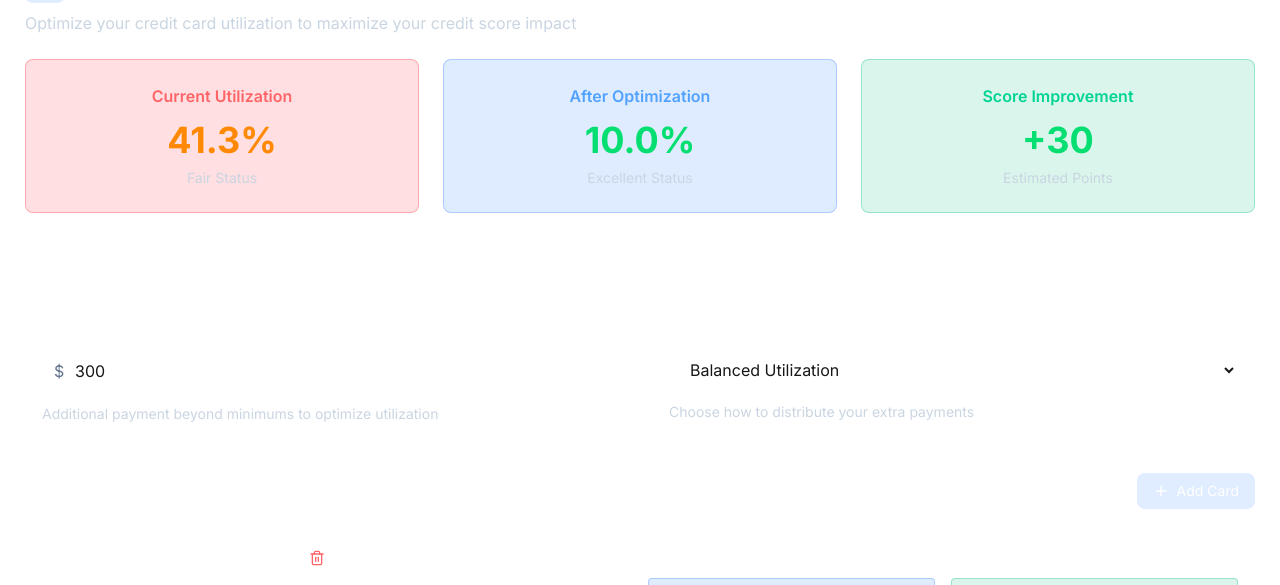
Test: CreditUtilizationCalculator - Enhanced › Functional Operations › adds new credit card
This screenshot has width=1280, height=585.
What coordinates should you click on to do the following:
click the button with aria-label "Add new credit card to analyze"
I would click on:
 (1196, 491)
Its box is [1136, 473, 1255, 509].
(page scrolled)
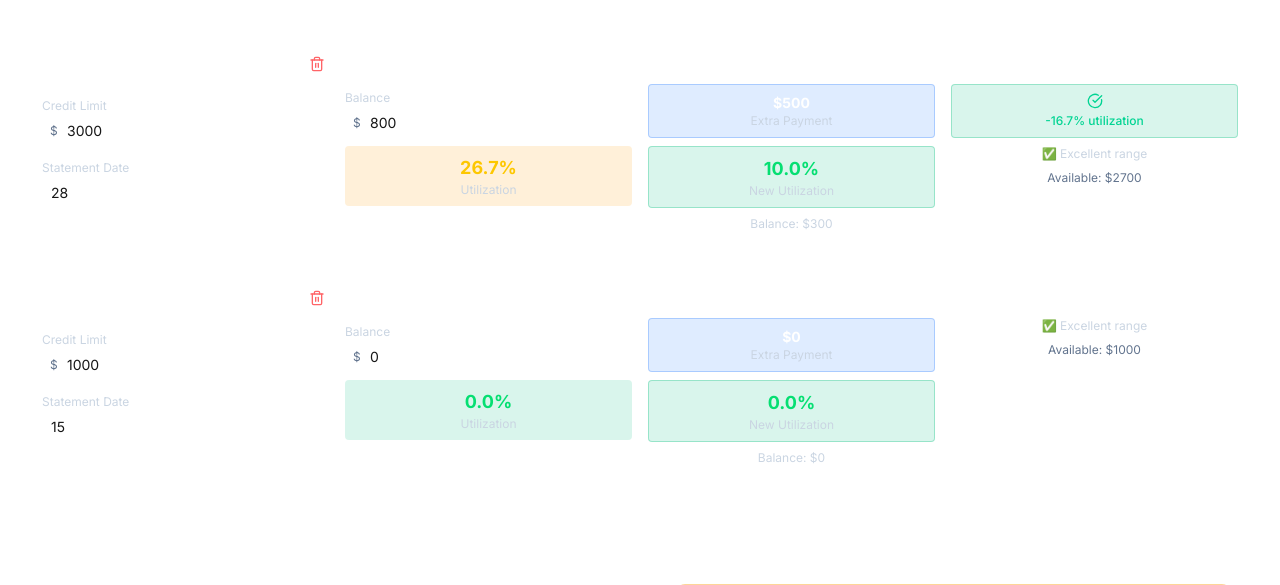
Expected: the number of fields labelled "Credit Limit" is 3
